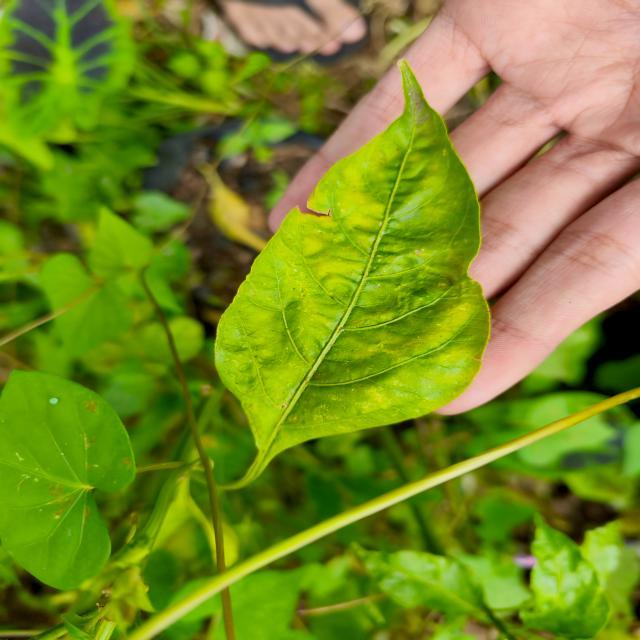Virus Kuning: (213, 59, 494, 457)
